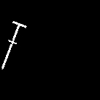double_crochet: (2, 21, 25, 68)
